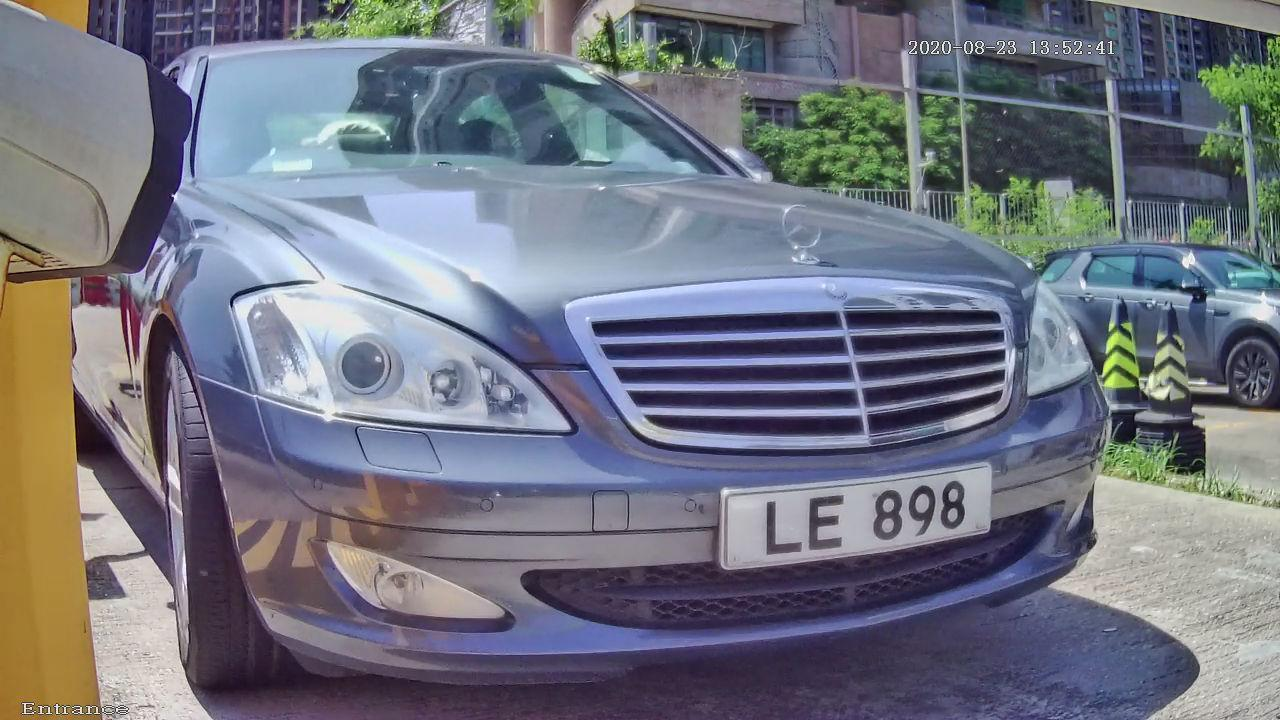Car: (23, 4, 1201, 720)
License Plate: (675, 414, 1055, 622)
